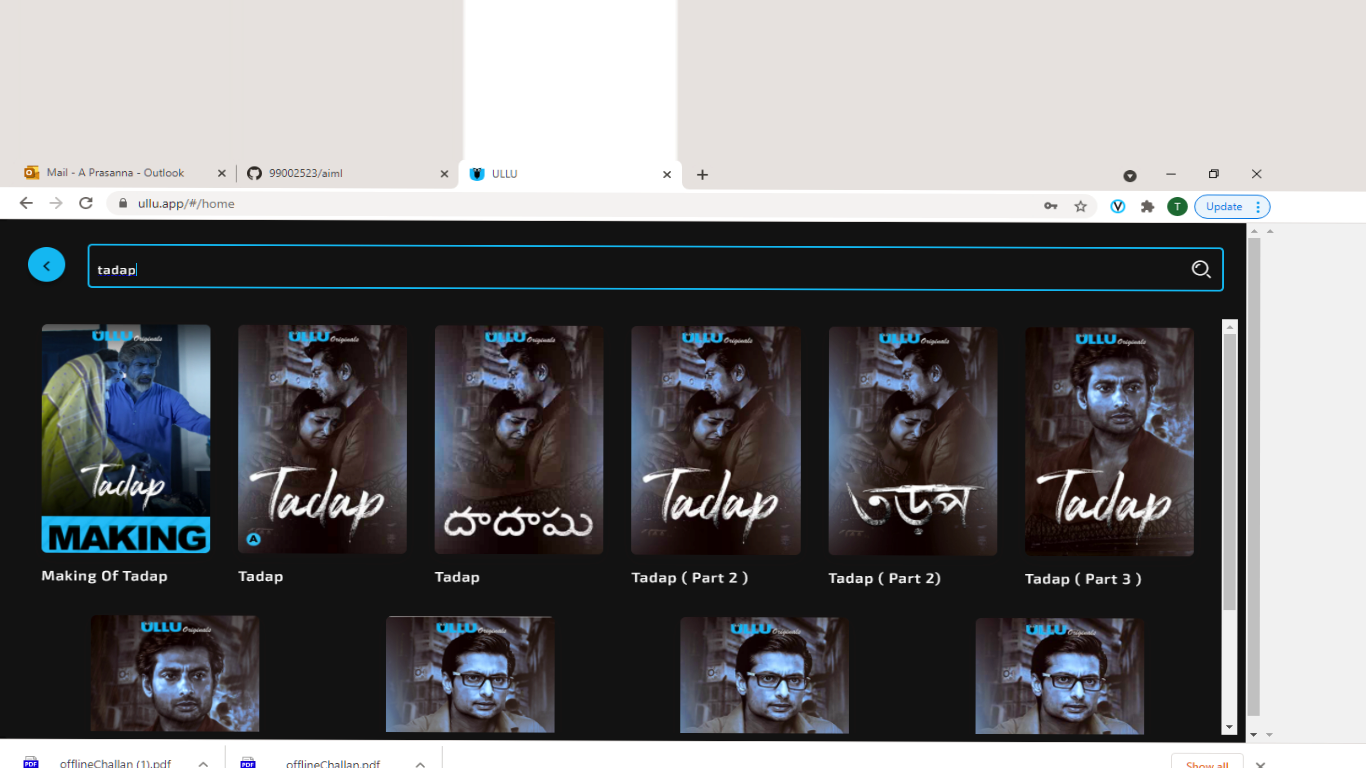searchicon: (1185, 255, 1218, 290)
searchtextbox: (79, 235, 1251, 304)
